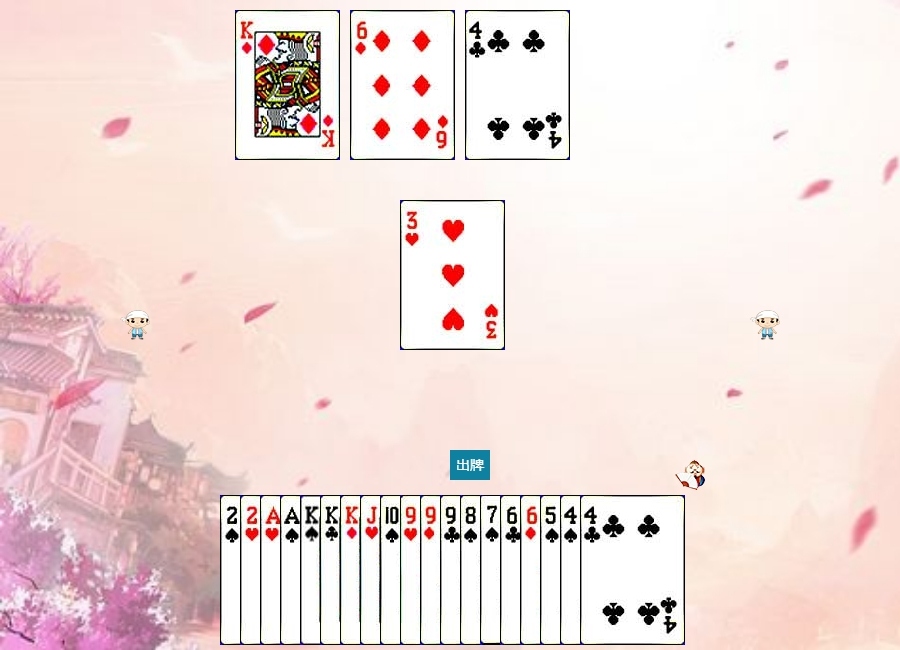10~4: (380, 495, 485, 645)
11~3: (360, 495, 465, 645)
13~1: (235, 10, 340, 160), (340, 495, 445, 645)
13~2: (320, 495, 425, 645)
13~4: (300, 495, 405, 645)
14~3: (260, 495, 365, 645)
14~4: (280, 495, 385, 645)
15~3: (240, 495, 345, 645)
15~4: (220, 495, 325, 645)
3~3: (400, 200, 505, 350)
4~2: (465, 10, 570, 160), (580, 495, 685, 645)
4~4: (560, 495, 665, 645)
5~4: (540, 495, 645, 645)
6~1: (350, 10, 455, 160), (520, 495, 625, 645)
6~2: (500, 495, 605, 645)
7~4: (480, 495, 585, 645)
8~4: (460, 495, 565, 645)
9~1: (420, 495, 525, 645)
9~2: (440, 495, 545, 645)
9~3: (400, 495, 505, 645)
